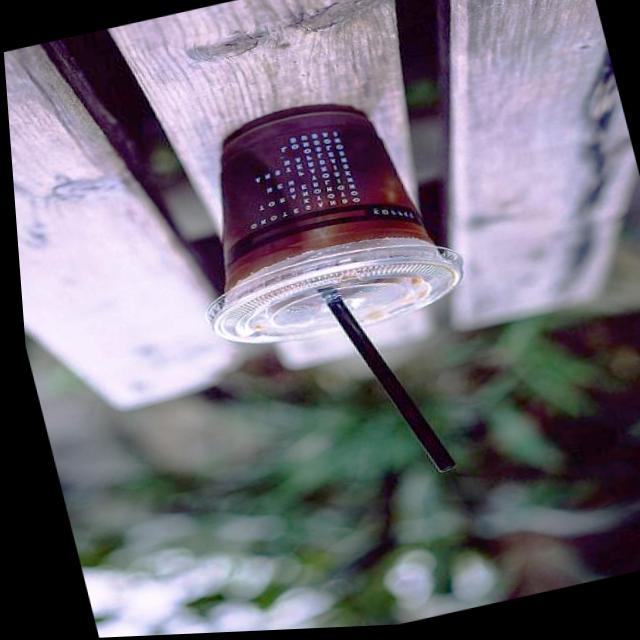drink: (217, 106, 478, 347)
